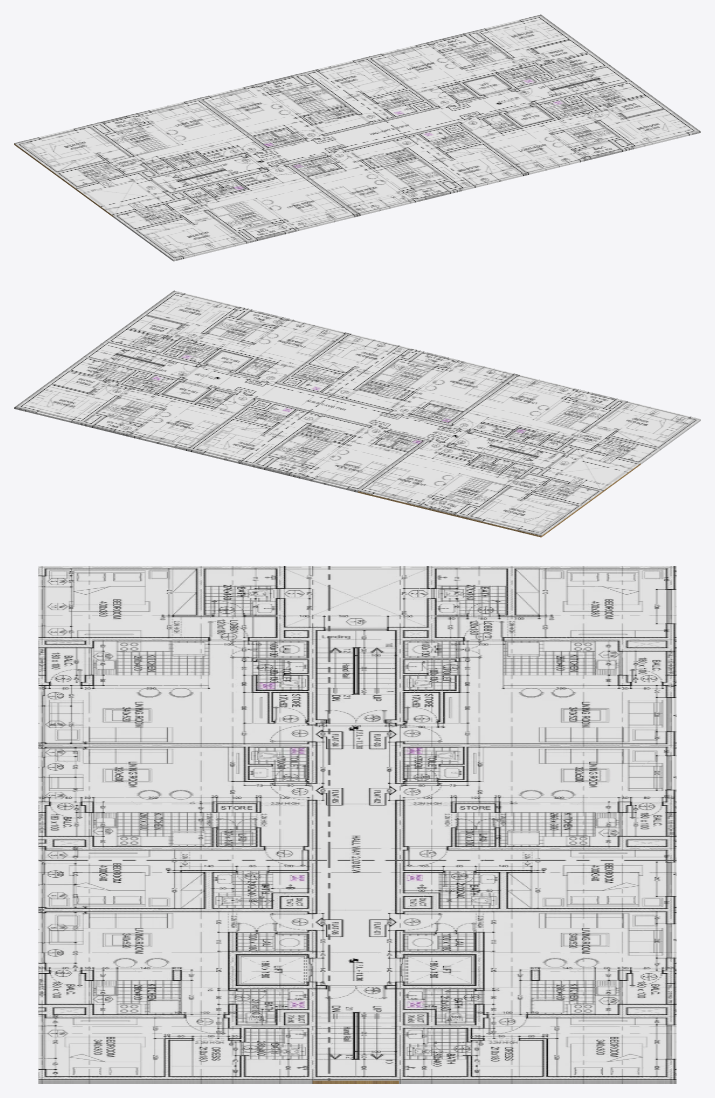
Rendered from Third floor plans.compressed.glb.
3 views of the same model, one above another, from view 1: azimuth 30°, elevation 25°; view 2: azimuth 150°, elevation 25°; view 3: azimuth 270°, elevation 25° (orthographic). The views are drawn at different scales.
Parts seen in each view (by area): view 1: HALL WAY.003, flat-04.003, flat-03.003, flat-06.003, flat-01.003, flat-05.003, flat-02.003; view 2: HALL WAY.003, flat-03.003, flat-01.003, flat-04.003, flat-06.003, flat-02.003, flat-05.003; view 3: HALL WAY.003, flat-01.003, flat-06.003, flat-03.003, flat-04.003, flat-02.003, flat-05.003.
Boxes of the visible parts, left/top/right/bottom form: HALL WAY.003: left=75, top=65, right=631, bottom=216; flat-04.003: left=113, top=165, right=357, bottom=261; flat-03.003: left=14, top=98, right=265, bottom=189; flat-06.003: left=457, top=81, right=700, bottom=175; flat-01.003: left=366, top=14, right=610, bottom=107; flat-05.003: left=289, top=124, right=525, bottom=216; flat-02.003: left=198, top=57, right=434, bottom=148; HALL WAY.003: left=83, top=340, right=640, bottom=491; flat-03.003: left=358, top=441, right=602, bottom=537; flat-01.003: left=14, top=356, right=257, bottom=451; flat-04.003: left=449, top=374, right=700, bottom=464; flat-06.003: left=105, top=290, right=348, bottom=382; flat-02.003: left=189, top=399, right=426, bottom=492; flat-05.003: left=281, top=333, right=516, bottom=424; HALL WAY.003: left=279, top=566, right=430, bottom=1083; flat-01.003: left=399, top=910, right=676, bottom=1083; flat-06.003: left=38, top=909, right=312, bottom=1083; flat-03.003: left=399, top=566, right=676, bottom=744; flat-04.003: left=38, top=566, right=312, bottom=745; flat-02.003: left=401, top=744, right=676, bottom=909; flat-05.003: left=38, top=745, right=311, bottom=909.
Bounding box in the file's own units: 10.9 × 0.0307 × 5.71.
Materials: 2 (2 with a texture image).
